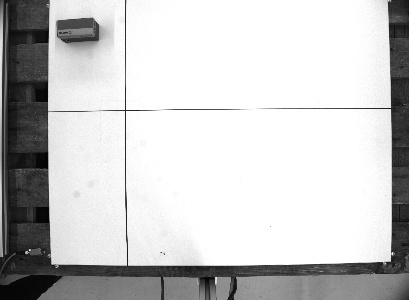b3: (53, 13, 101, 45)
